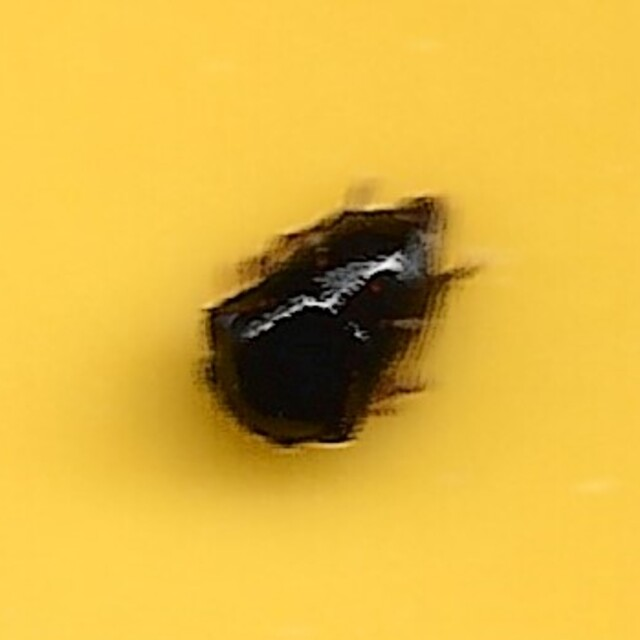Hemiptera: (183, 181, 457, 459)
